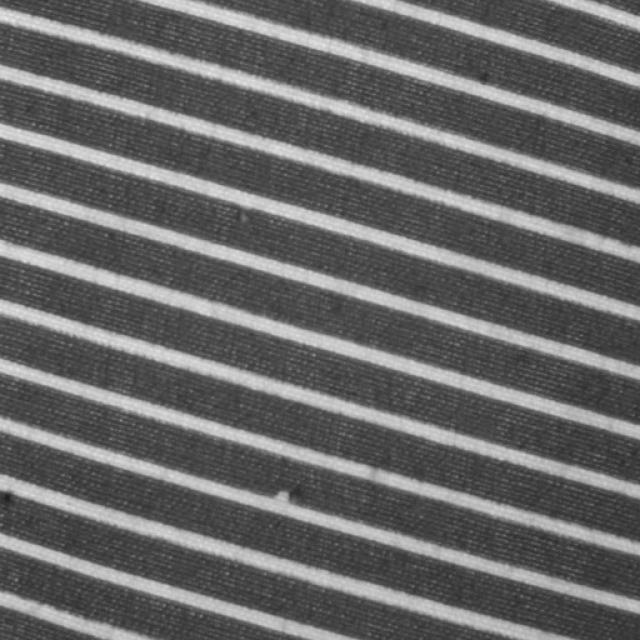Thread-Defect: (270, 486, 301, 502)
